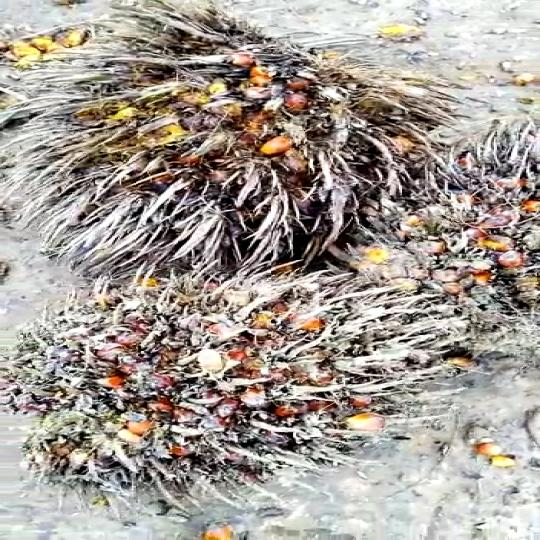terlalu masak: (0, 29, 459, 258), (0, 276, 468, 484)
